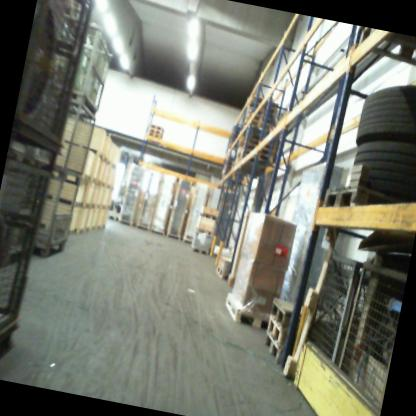pallet: (220, 291, 280, 340), (261, 315, 308, 350), (257, 332, 298, 371), (269, 295, 311, 330), (227, 150, 275, 177), (206, 263, 243, 297), (237, 133, 279, 154), (238, 128, 281, 147), (247, 93, 287, 111), (237, 142, 279, 158), (243, 115, 280, 133), (241, 110, 278, 128), (244, 106, 279, 123), (240, 123, 274, 139), (247, 100, 280, 115), (237, 147, 278, 159), (188, 244, 218, 260), (145, 121, 165, 132), (146, 131, 163, 141), (146, 127, 161, 135)
stillage: (9, 0, 108, 169), (0, 155, 66, 371), (331, 259, 406, 415), (300, 246, 363, 374), (59, 13, 120, 121), (26, 160, 83, 270), (51, 91, 103, 171)
